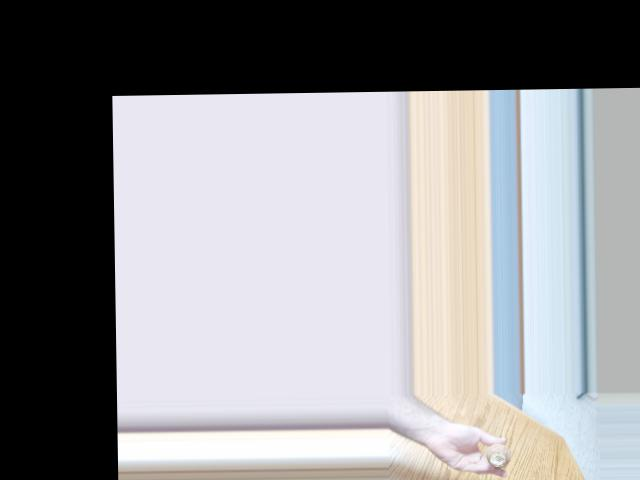sweet_potato: (489, 440, 511, 467)
